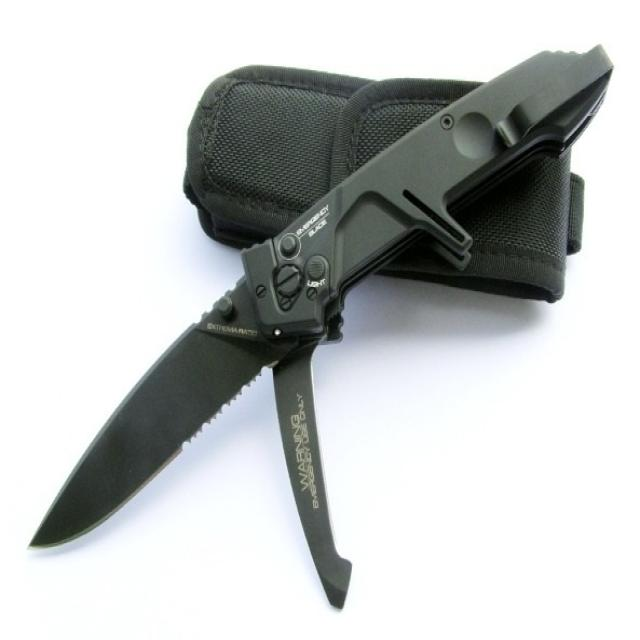knife: (21, 38, 614, 566)
